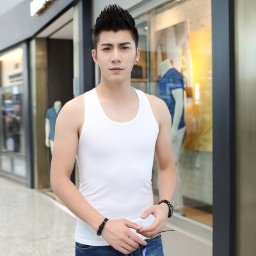face: (89, 3, 144, 84)
